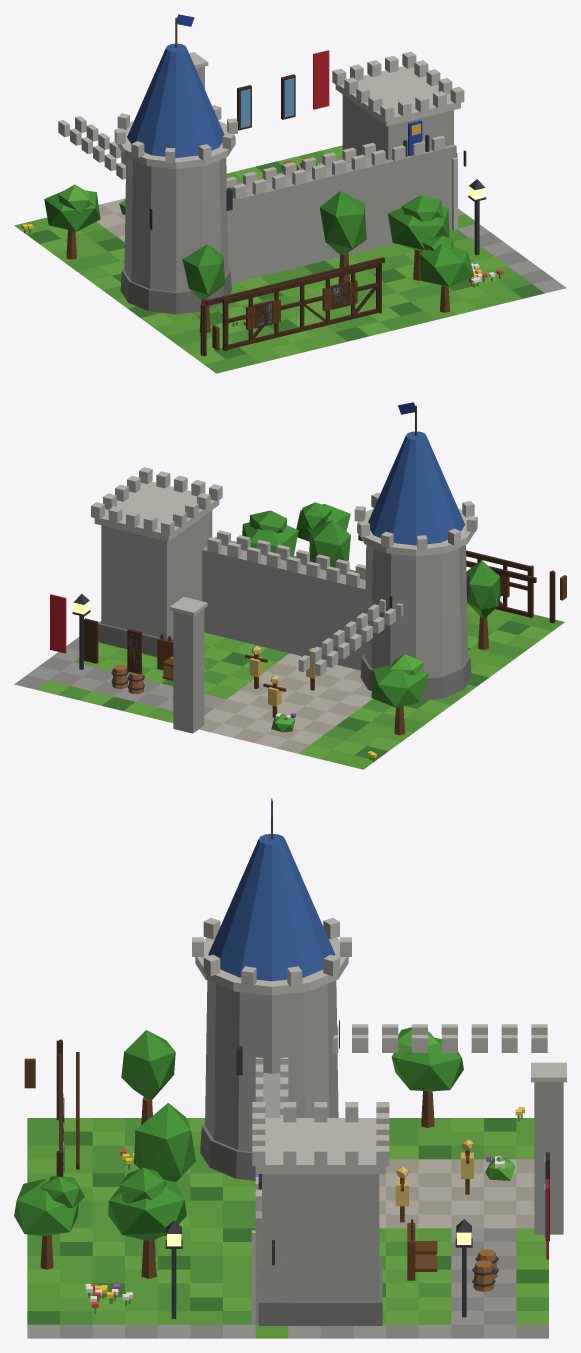
File: chunk_1_1.glb
3 views of the same model, one above another, from view 1: azimuth 30°, elevation 25°; view 2: azimuth 150°, elevation 25°; view 3: azimuth 270°, elevation 25° (orthographic). The views are drawn at different scales.
Visible parts, largest first — view 1: chunk_1_1; view 2: chunk_1_1; view 3: chunk_1_1.
Boxes of the visible parts, x1,y1,x2,y2 form: chunk_1_1: (14,14,566,373); chunk_1_1: (14,402,566,769); chunk_1_1: (14,798,566,1338).
Bounding box in the file's own units: 16.5 × 12.07 × 16.96.
